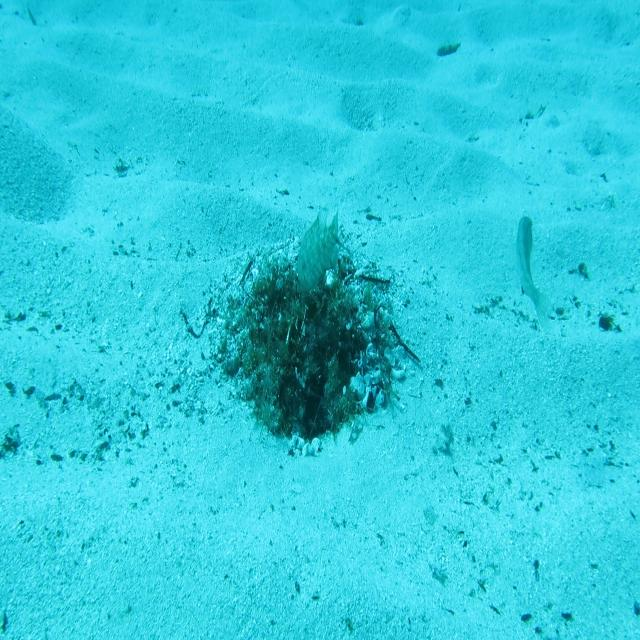NIP_CORE: (293, 201, 346, 300)
core_nest: (280, 285, 331, 317)
female: (514, 215, 556, 338)
nest: (203, 227, 412, 467)
vegetation: (436, 42, 463, 56)
